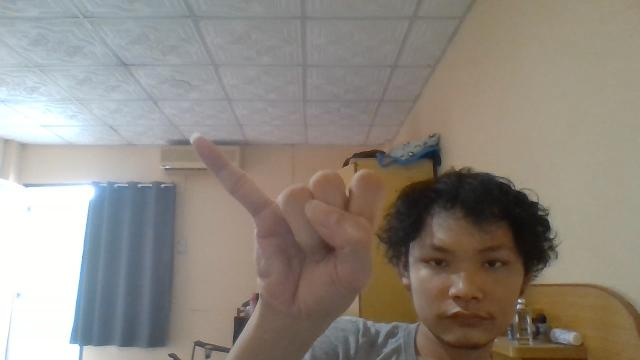Right: (187, 130, 379, 302)
